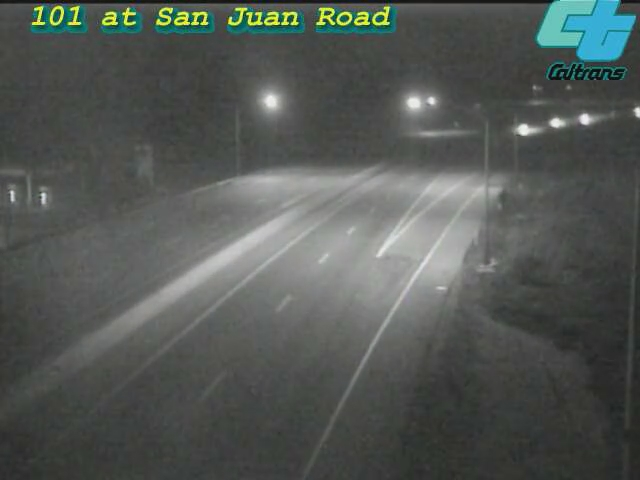vehicle: (560, 94, 610, 144), (533, 97, 583, 147), (500, 104, 550, 154), (613, 87, 640, 137)
